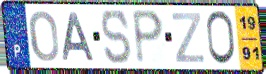A: (62, 11, 97, 62)
O: (205, 9, 238, 67), (28, 9, 61, 64)
P: (130, 8, 166, 67)
S: (100, 8, 134, 67)
Z: (170, 11, 206, 65)
